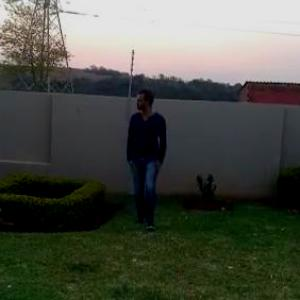follow: (118, 80, 168, 253)
